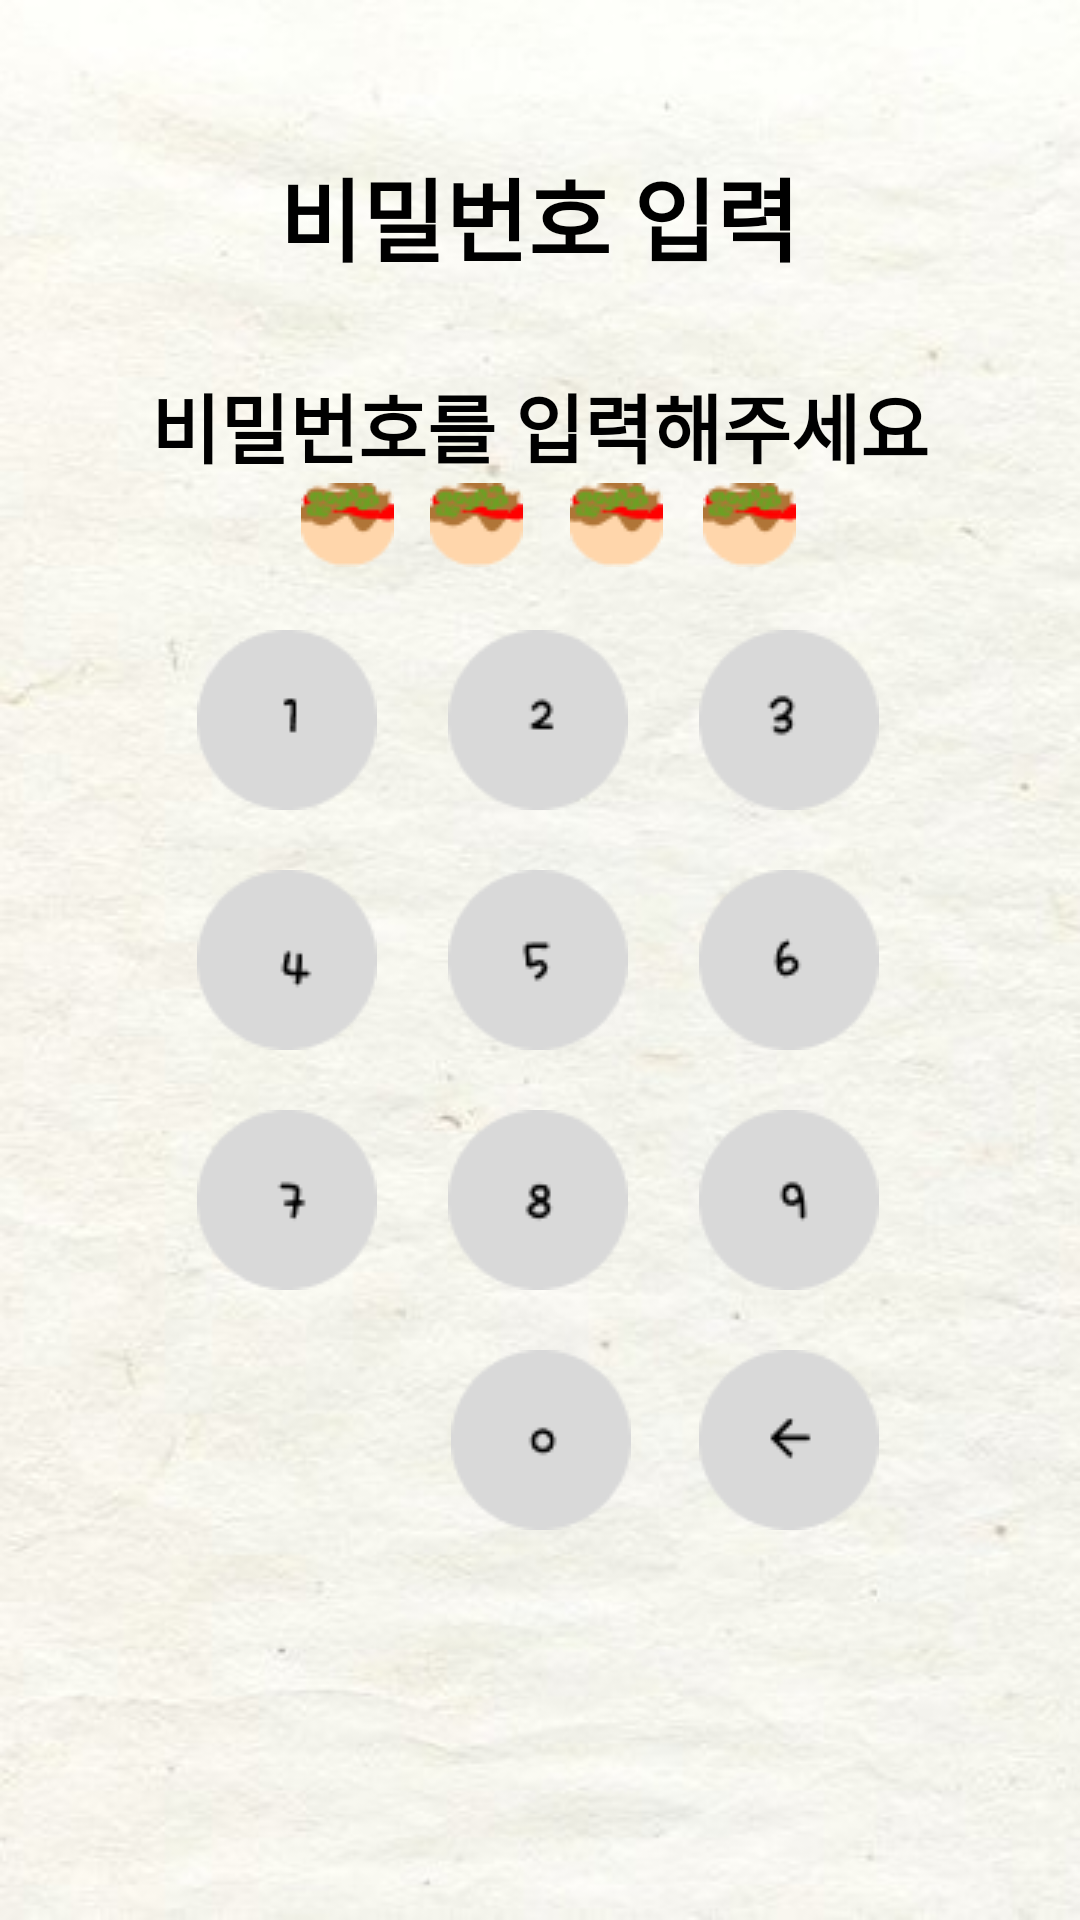

Icons on this 1080px x 1920px Android screen, each with the point to tap as point (x, y):
taco: point (476, 515), point (347, 525), point (616, 524), point (749, 524)
뒤로가기: point (789, 1440)
